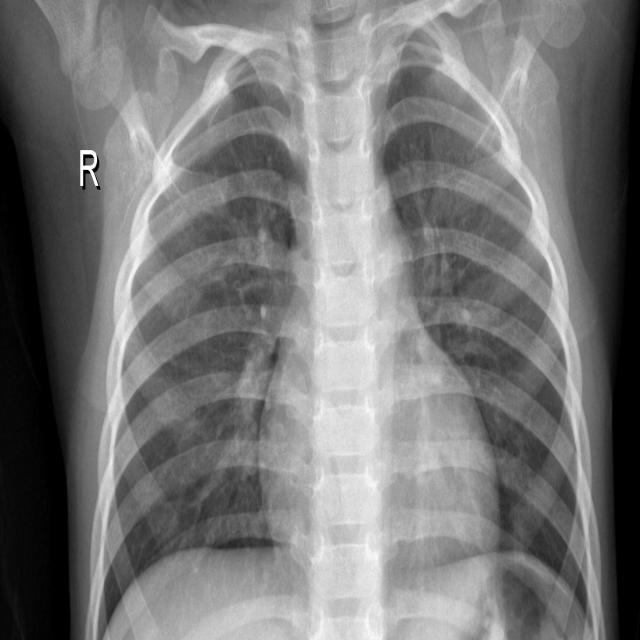no-pneumonia: (381, 31, 601, 616), (90, 80, 307, 637)
